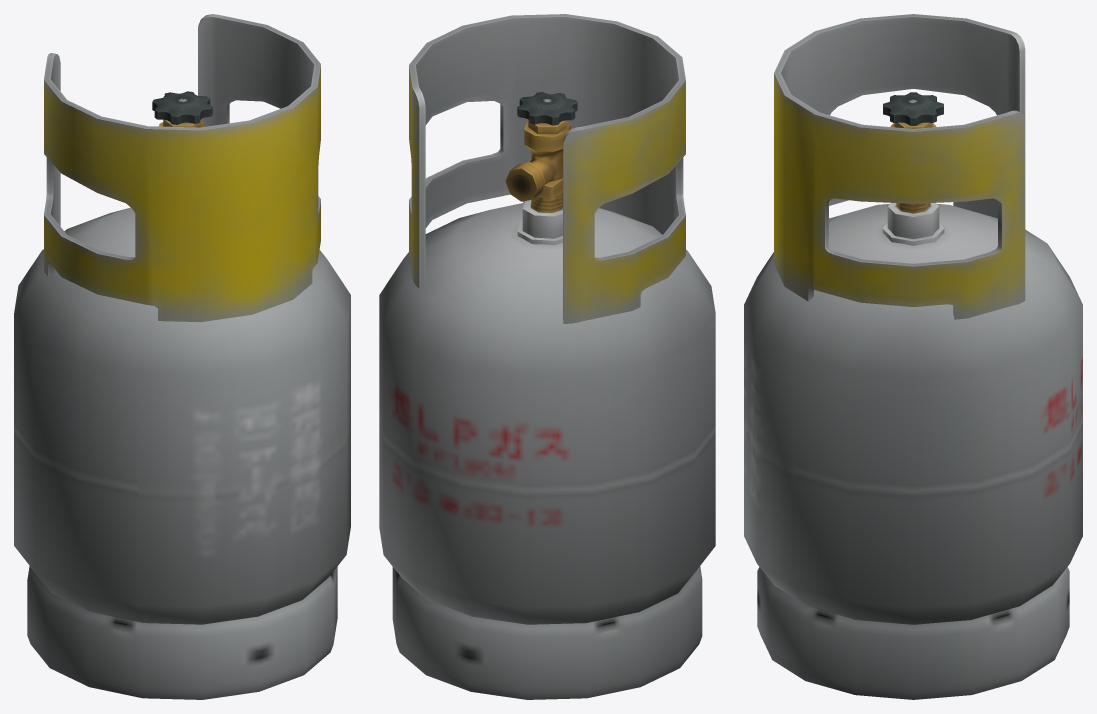
The model's file is jsf_GasContainer05kg_02.fbx.
The picture shows the model from 3 angles, left to right: view 1: azimuth 30°, elevation 25°; view 2: azimuth 150°, elevation 25°; view 3: azimuth 270°, elevation 25°; orthographic projection.
Parts seen in each view (by area): view 1: GasContainer05kg_02, GasValve; view 2: GasContainer05kg_02, GasValve; view 3: GasContainer05kg_02, GasValve.
Part boxes in pixels (x1,y1,x2,y2): GasContainer05kg_02: (14, 14, 350, 699); GasValve: (152, 91, 212, 124); GasContainer05kg_02: (379, 14, 715, 699); GasValve: (517, 92, 577, 125); GasContainer05kg_02: (744, 14, 1082, 699); GasValve: (883, 92, 943, 125).
Size of the model in its own units: 24.33 by 44.54 by 24.33.
